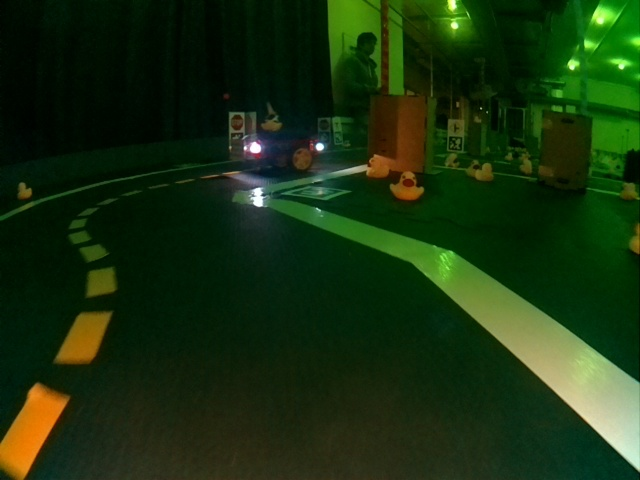Duckie: (390, 173, 423, 199), (366, 158, 387, 177), (263, 114, 282, 131), (475, 165, 493, 180), (17, 182, 32, 198), (467, 164, 478, 176), (446, 154, 456, 163)
Duckiebot: (243, 136, 324, 172)
Intersection sign: (449, 120, 463, 134)
QR code: (281, 187, 343, 200), (447, 136, 463, 151), (335, 131, 343, 143)
Stop sign: (230, 112, 244, 129), (318, 119, 329, 129)
